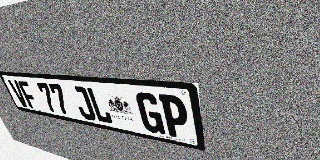7: (47, 83, 73, 116), (35, 82, 60, 114)
F: (17, 81, 40, 110)
G: (135, 92, 165, 135)
J: (70, 86, 97, 121)
L: (86, 87, 114, 125)
P: (158, 94, 190, 140)
V: (7, 80, 30, 108)
